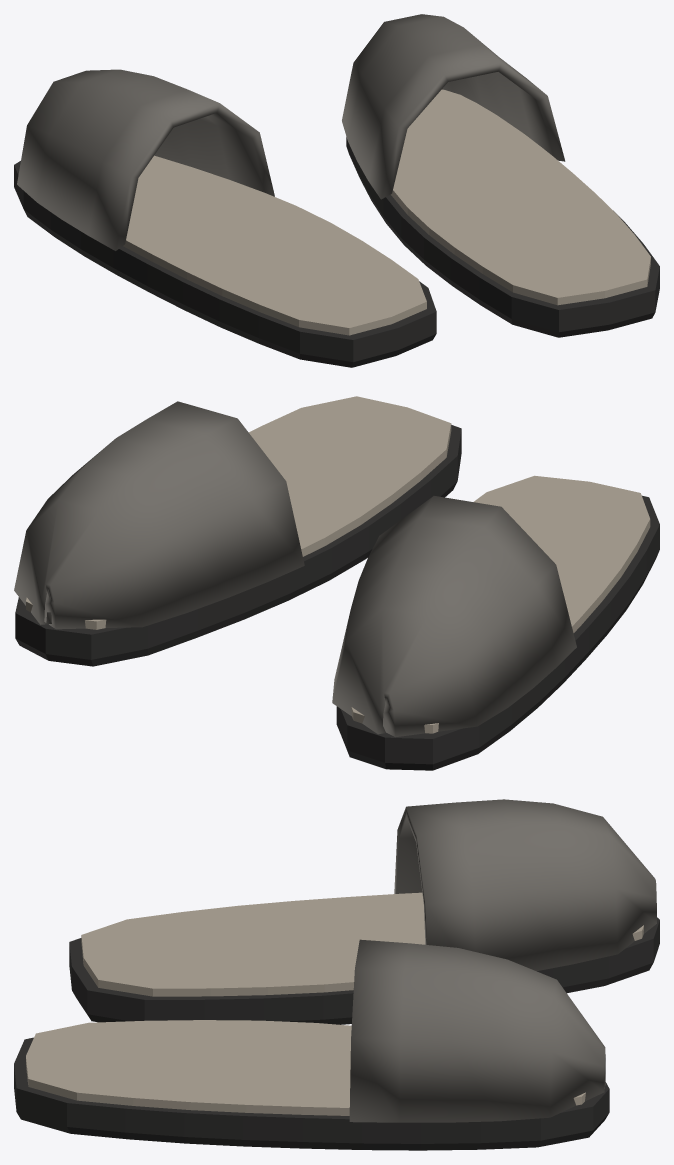
The model's file is decor_d_slippers.gltf.
The picture shows the model from 3 angles, top to bottom: view 1: azimuth 30°, elevation 25°; view 2: azimuth 150°, elevation 25°; view 3: azimuth 270°, elevation 25°; orthographic projection. The views are drawn at different scales.
Parts seen in each view (by area): view 1: DecorD_Slippers_Oat_NoCollide, DecorD_Slippers_StoneFabric_NoCollide, DecorD_Slippers_Charcoal_NoCollide; view 2: DecorD_Slippers_StoneFabric_NoCollide, DecorD_Slippers_Oat_NoCollide, DecorD_Slippers_Charcoal_NoCollide; view 3: DecorD_Slippers_StoneFabric_NoCollide, DecorD_Slippers_Oat_NoCollide, DecorD_Slippers_Charcoal_NoCollide.
Boxes of the visible parts, x1,y1,x2,y2 form: DecorD_Slippers_Oat_NoCollide: [123, 89, 650, 335]; DecorD_Slippers_StoneFabric_NoCollide: [17, 14, 565, 250]; DecorD_Slippers_Charcoal_NoCollide: [14, 137, 659, 367]; DecorD_Slippers_StoneFabric_NoCollide: [14, 401, 576, 737]; DecorD_Slippers_Oat_NoCollide: [26, 396, 650, 733]; DecorD_Slippers_Charcoal_NoCollide: [15, 425, 659, 770]; DecorD_Slippers_StoneFabric_NoCollide: [349, 799, 656, 1122]; DecorD_Slippers_Oat_NoCollide: [26, 892, 643, 1115]; DecorD_Slippers_Charcoal_NoCollide: [14, 917, 659, 1150].
Size of the model in its own units: 0.2492 by 0.0769 by 0.2937.
